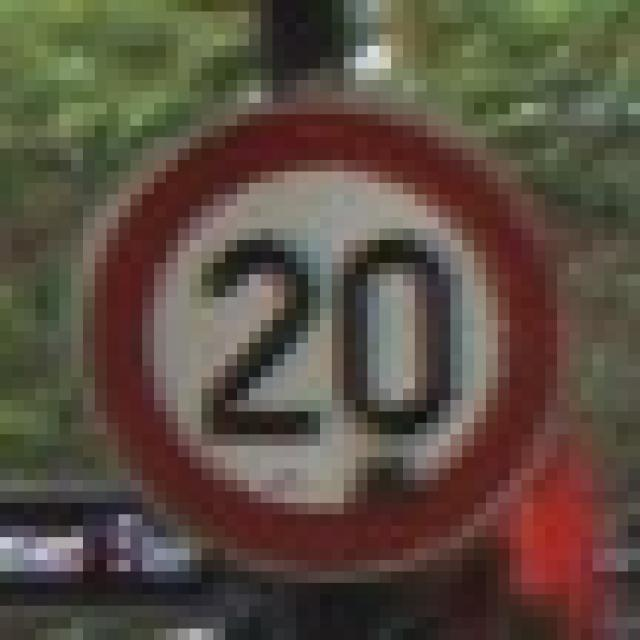Speed Limit -20-: (59, 57, 569, 572)
